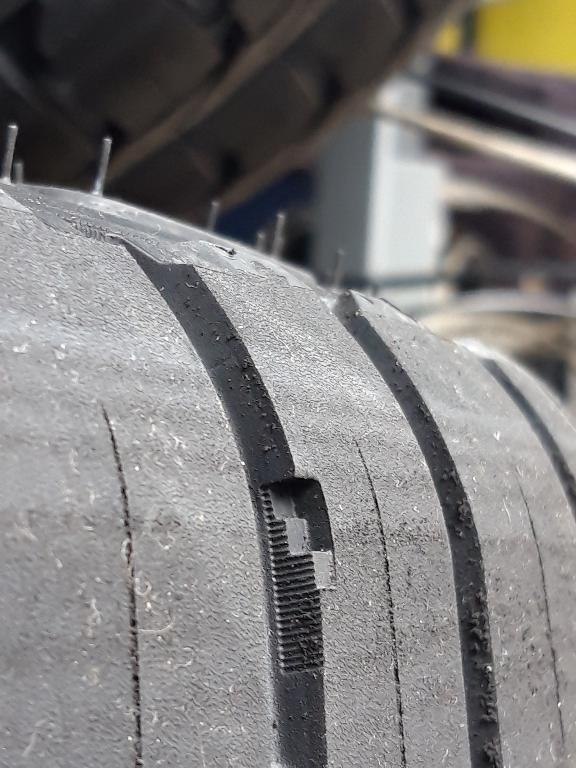temoin:50: (252, 467, 345, 602)
